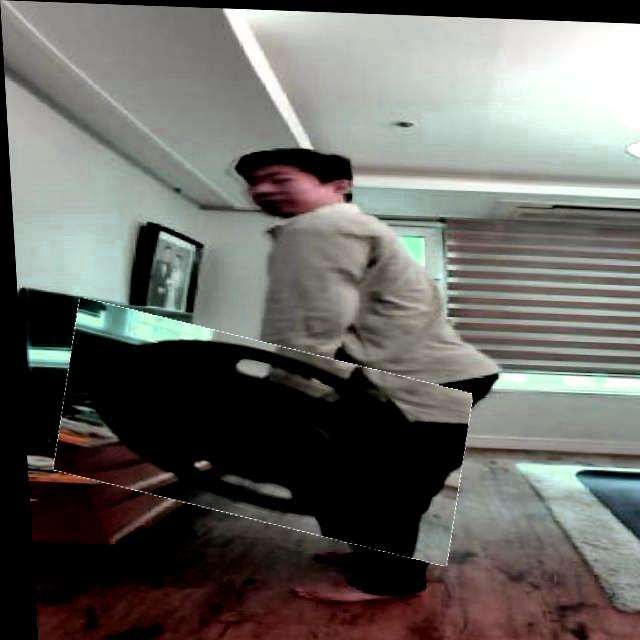barbell: (48, 317, 469, 545)
